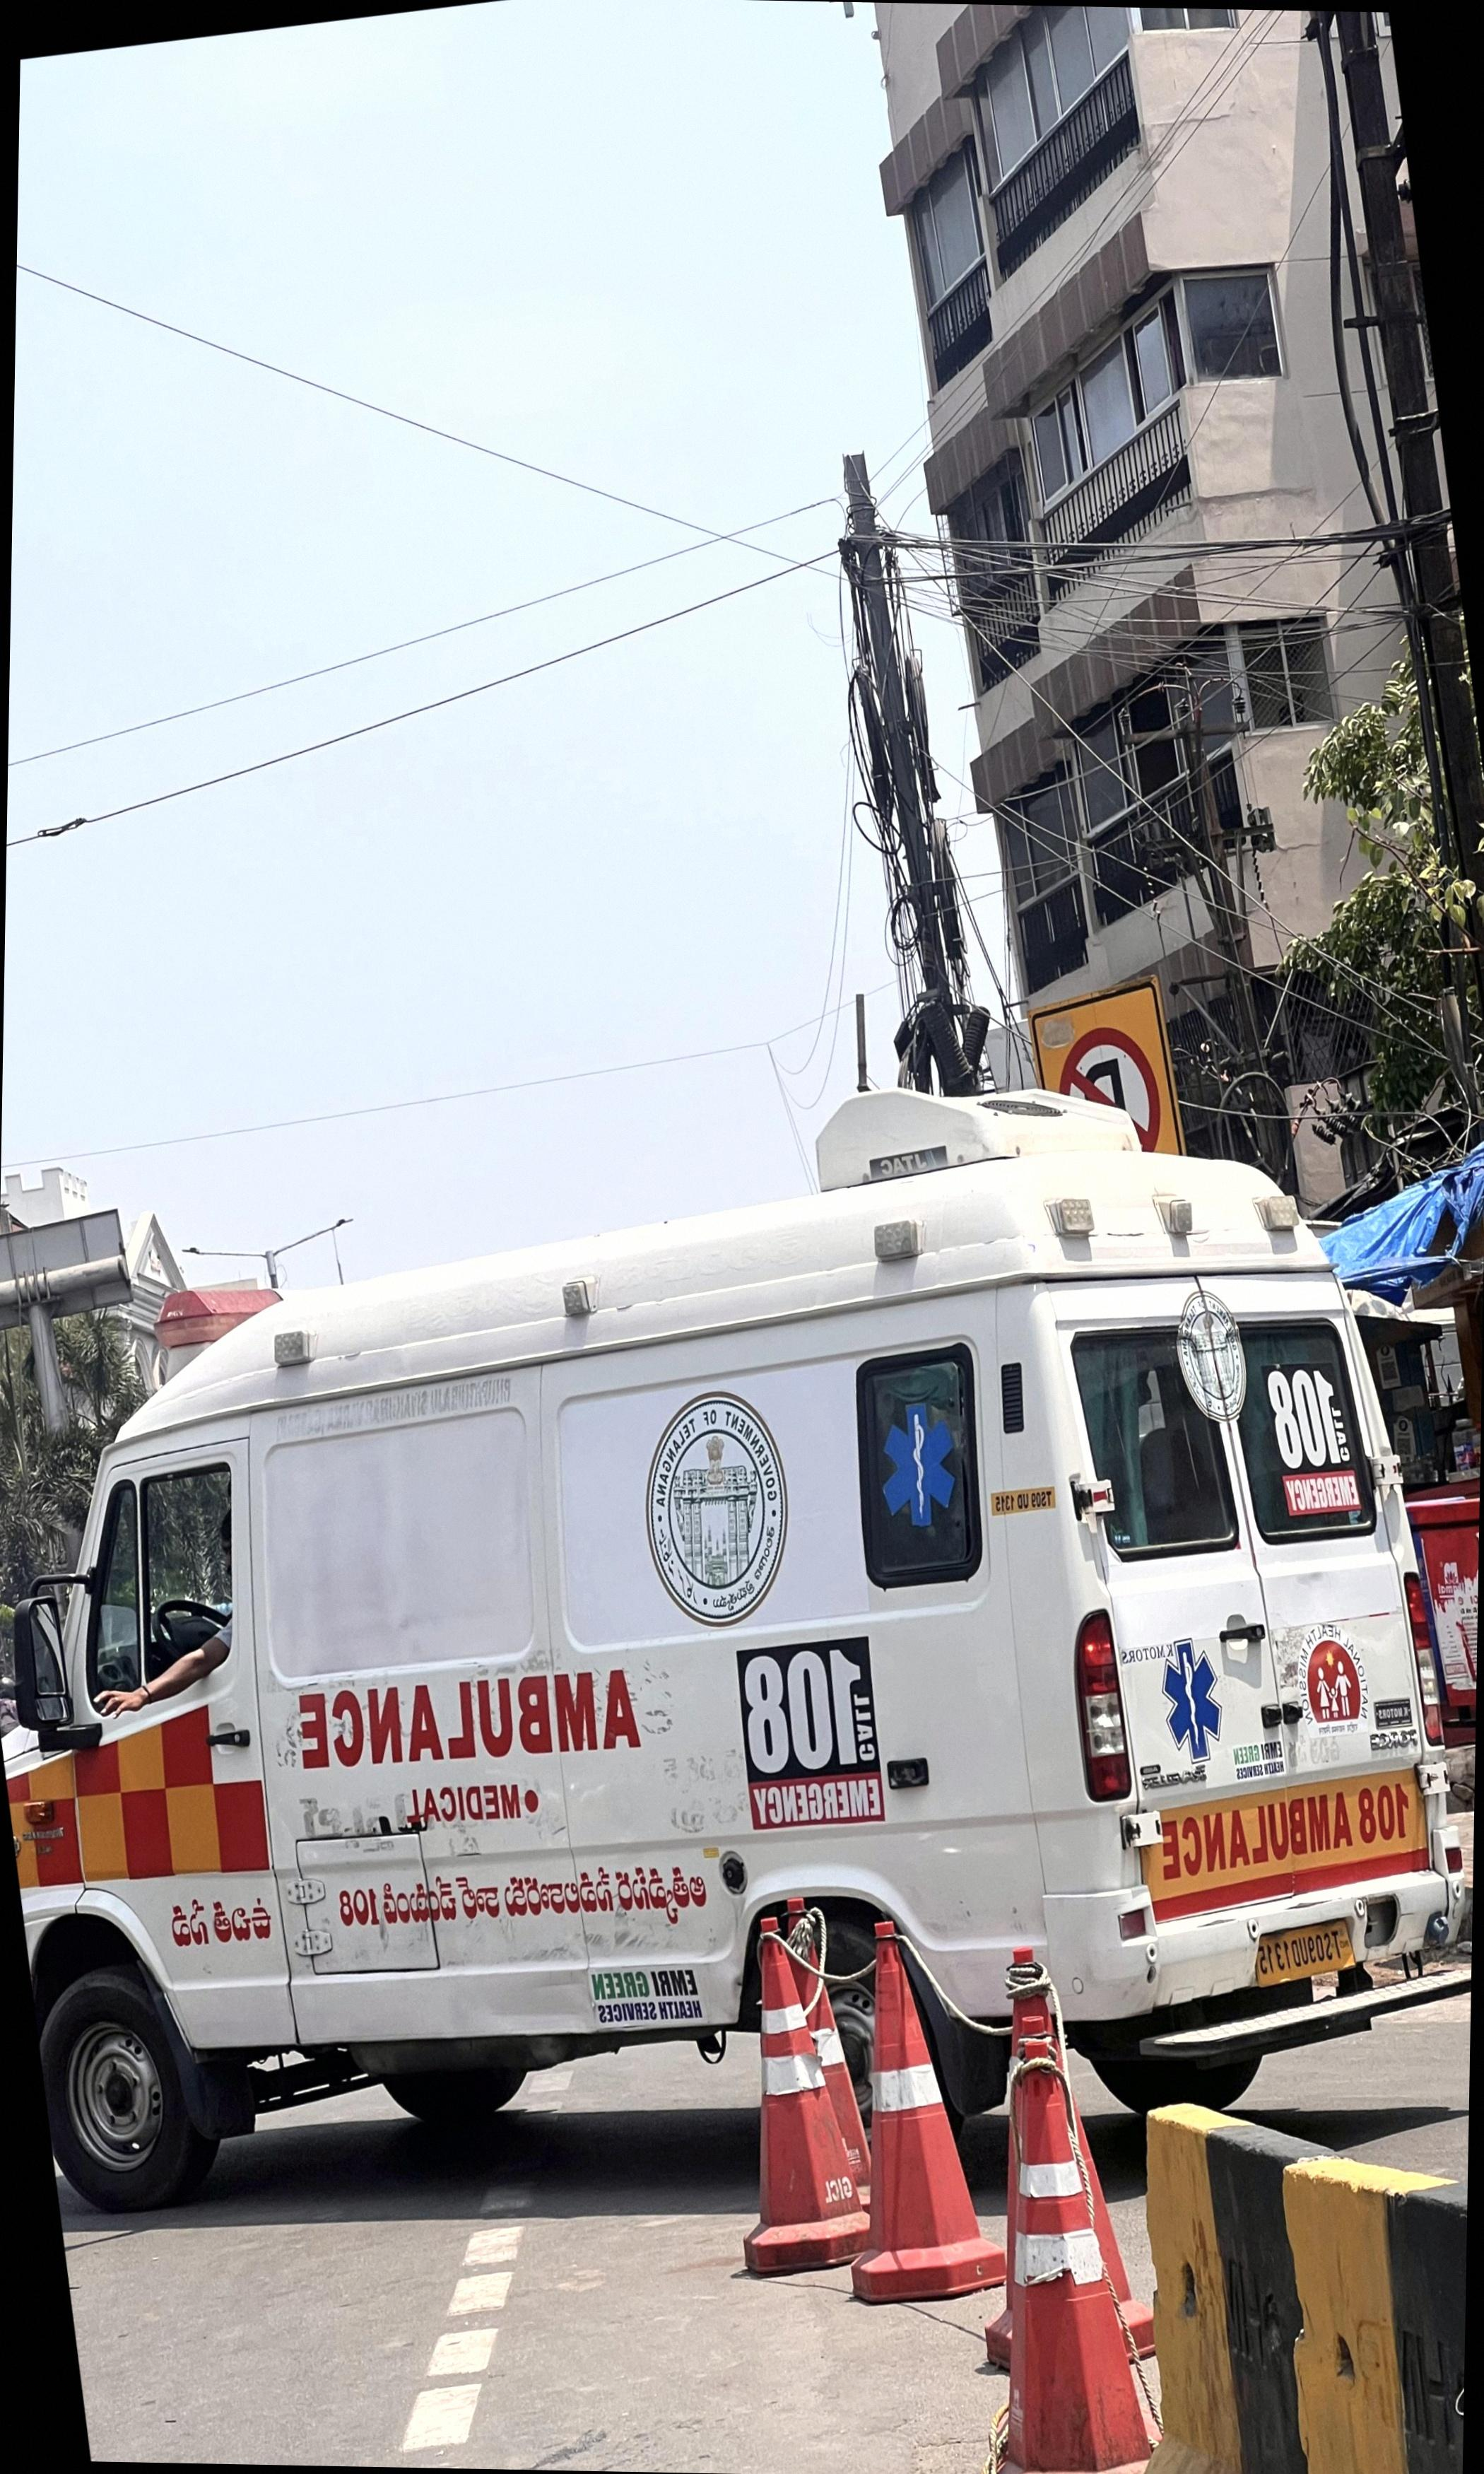ambulance: (14, 1101, 1468, 2244)
